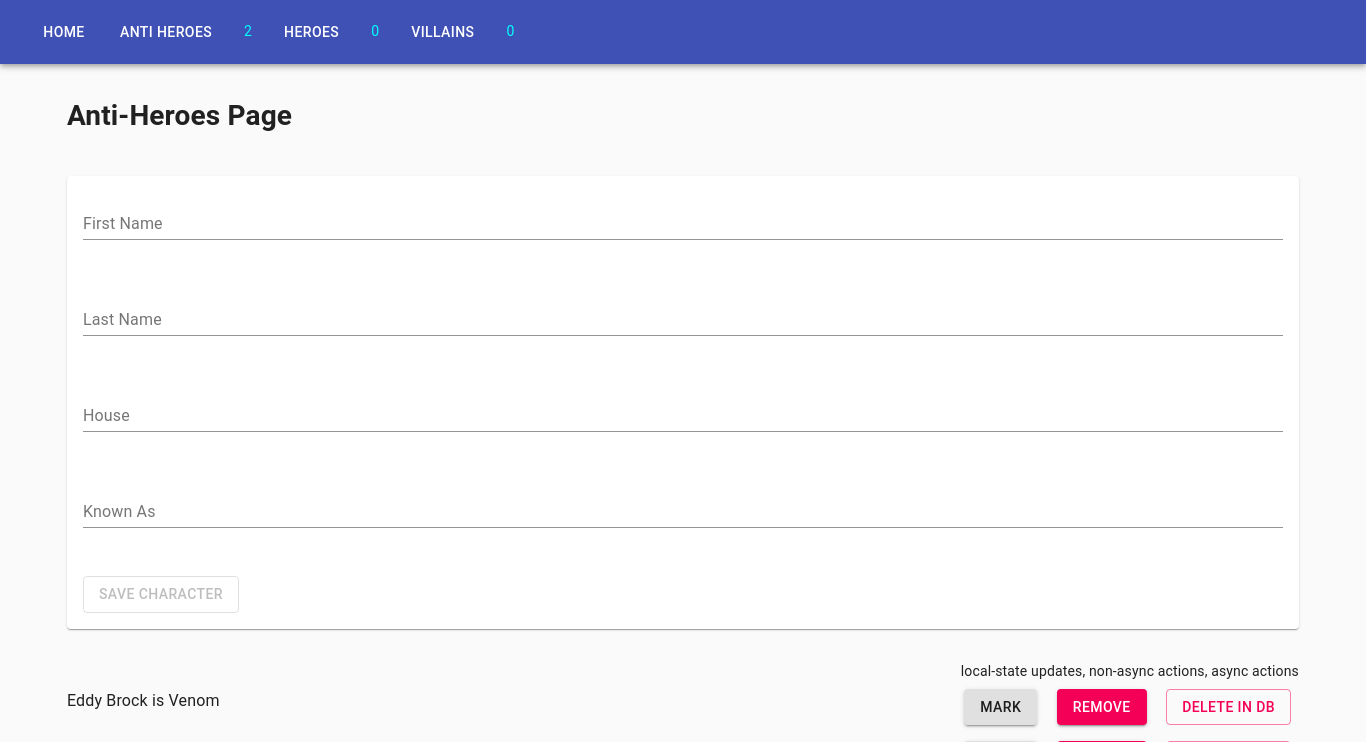
Scenario: Anti Heroes Page › should mark an anti hero
The image size is (1366, 742).
Click the button with test id "mark-button" in the row of "Eddy Brock is Venom". click: point(1001, 707)
box: x1=964 y1=688 x2=1037 y2=725
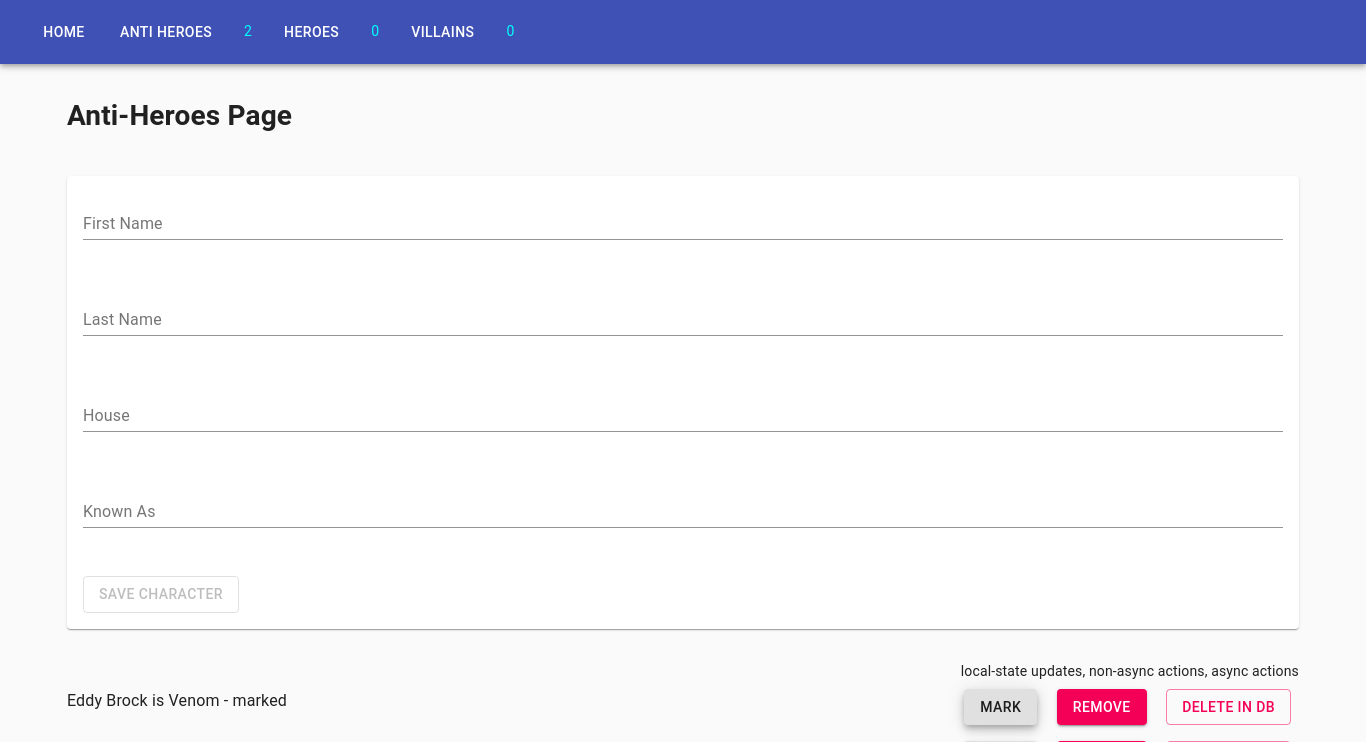
Expected: the element with test id "card" shows "marked", x1=220 y1=690 x2=287 y2=710
